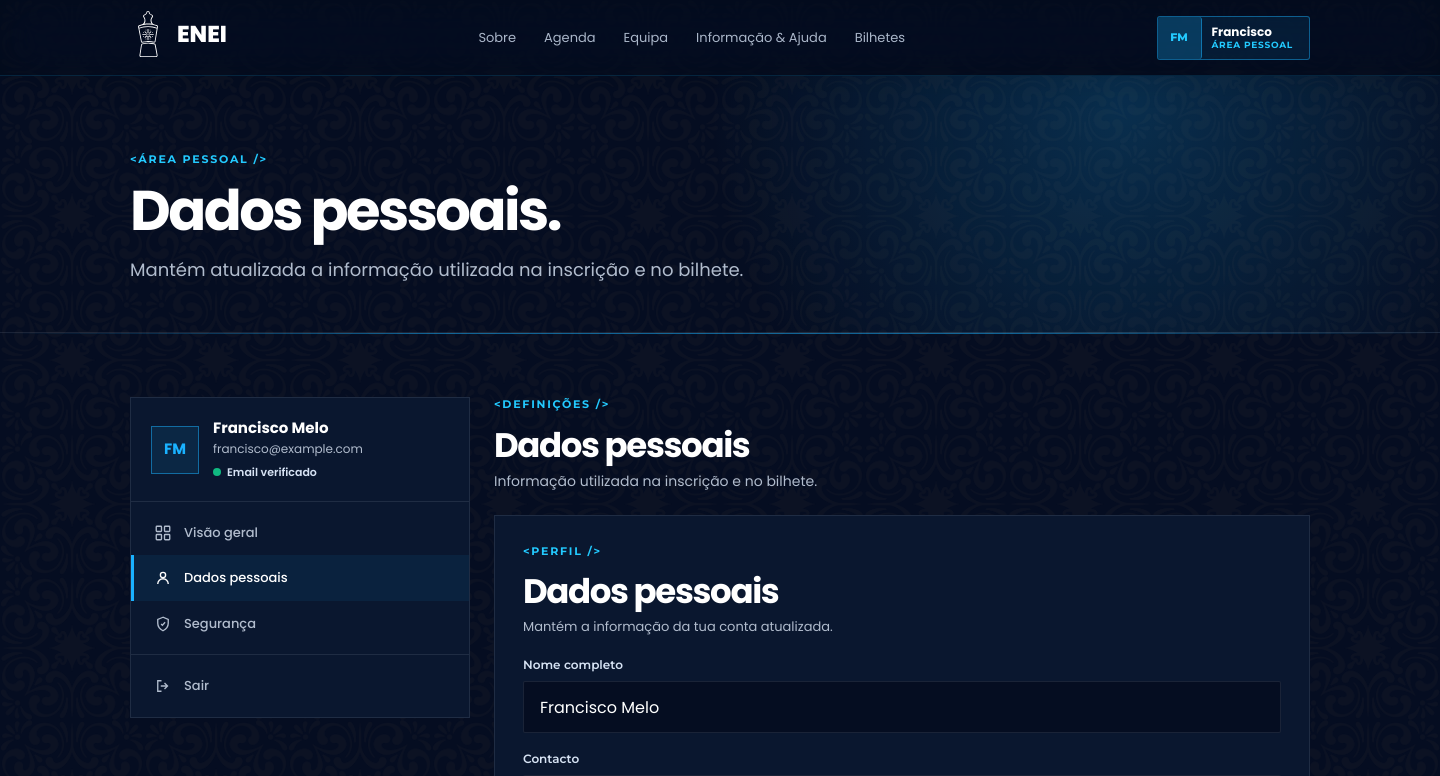
Test case: separadores da área pessoal › mudar de separador troca só o conteúdo: a moldura (barra lateral e «Sair») é a mesma e o título muda
Click the link "Segurança" at point(205, 623), box [154,614,256,633]
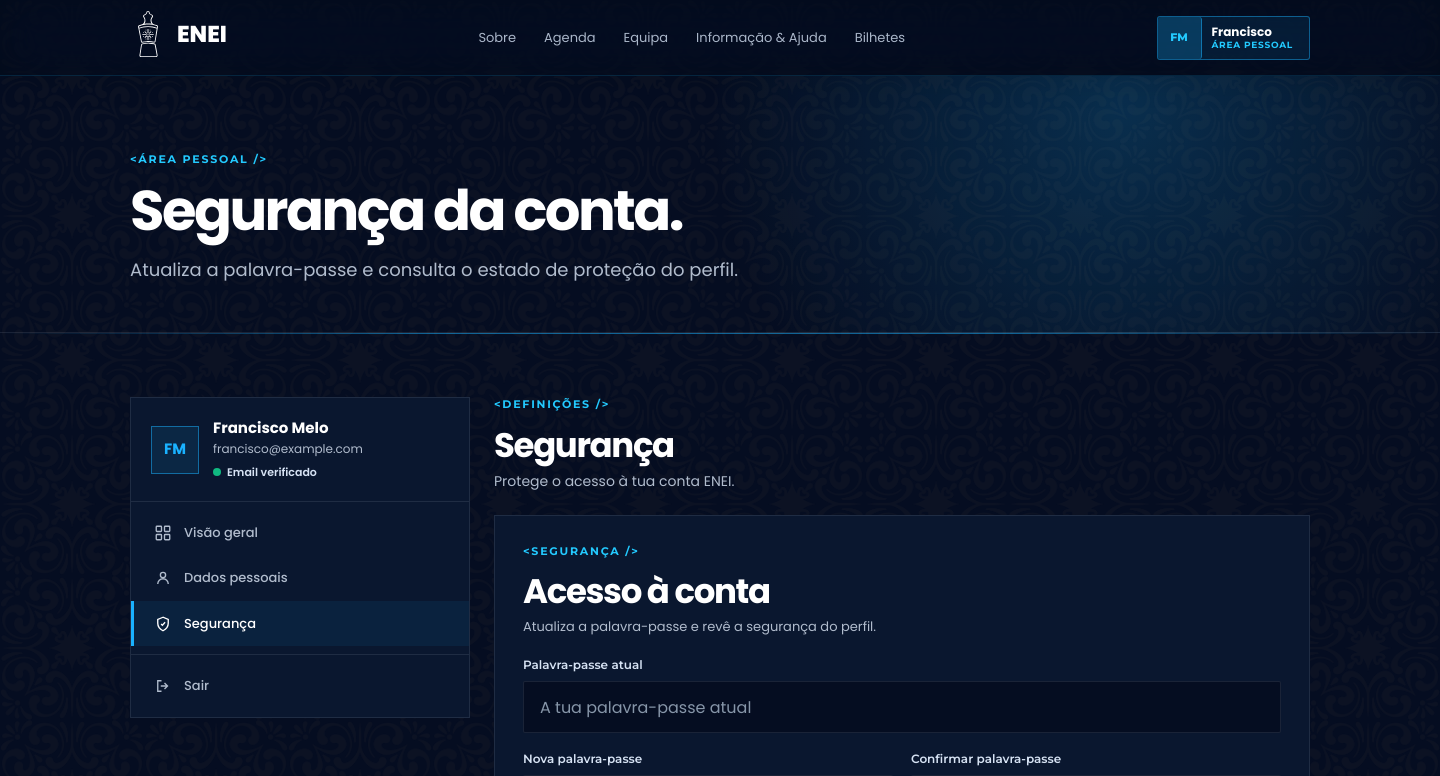
Expected: the heading "Segurança da conta." is shown, [130,171,682,250]
Click the link "Visão geral" at point(206, 532), box [154,523,258,542]
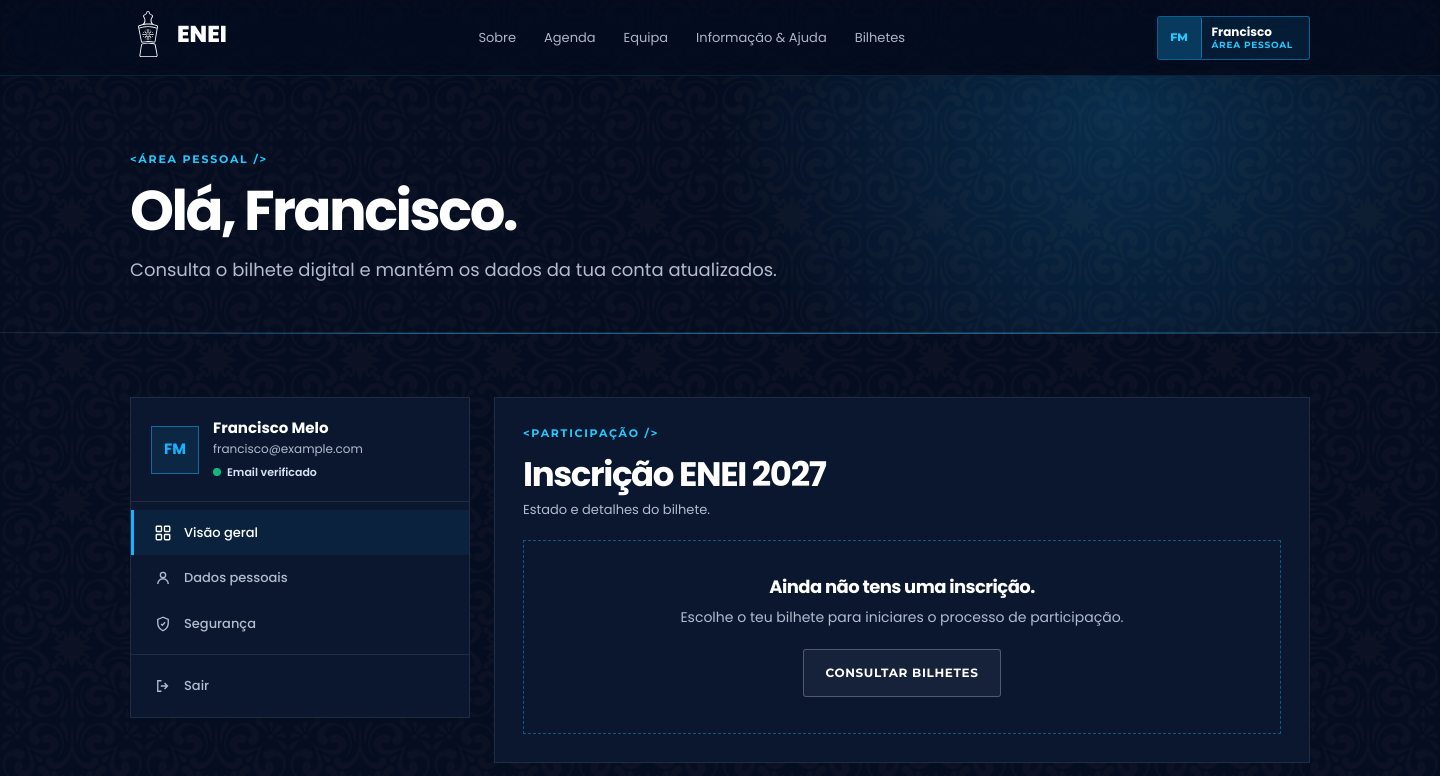
Expected: the heading "Olá, Francisco." is shown, [130,171,516,250]
